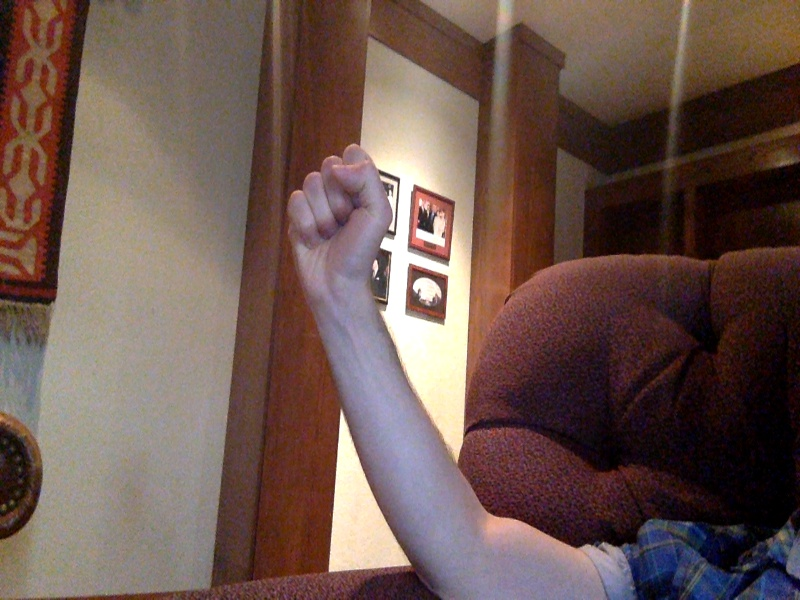0-hand: (285, 143, 390, 308)
